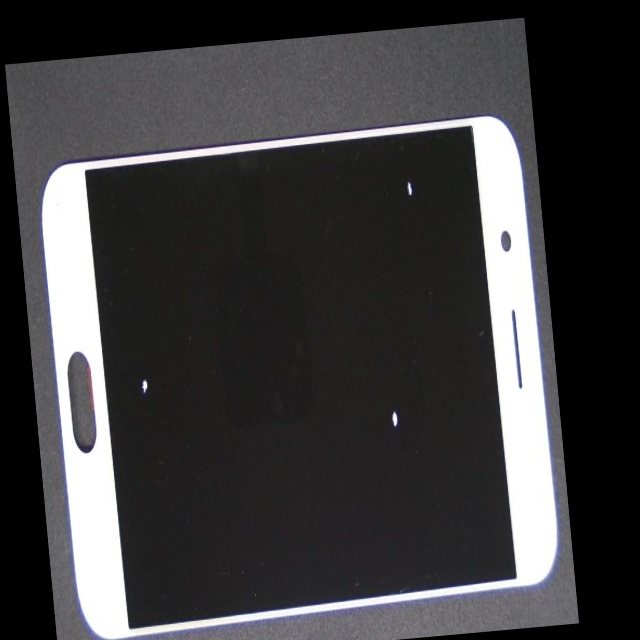stain: (179, 227, 577, 640), (185, 103, 548, 315), (69, 255, 225, 591)
